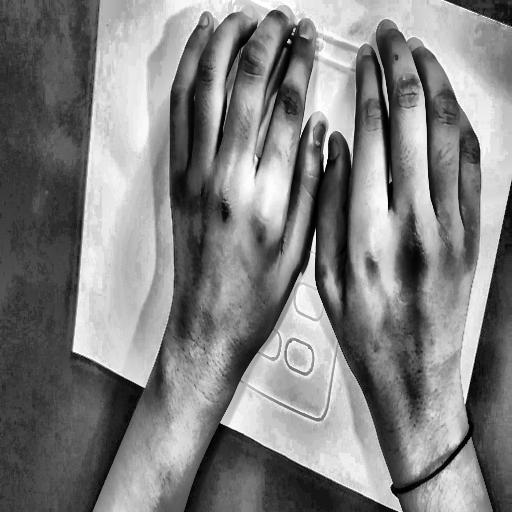bottom_left: (69, 343, 77, 358)
mobile: (194, 0, 394, 439)
